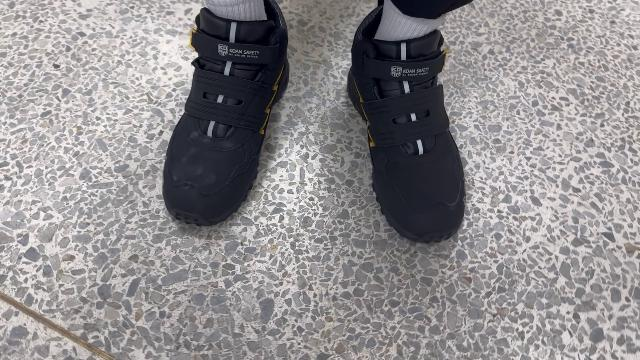shoe_worn: (347, 8, 479, 243), (166, 5, 278, 227)
